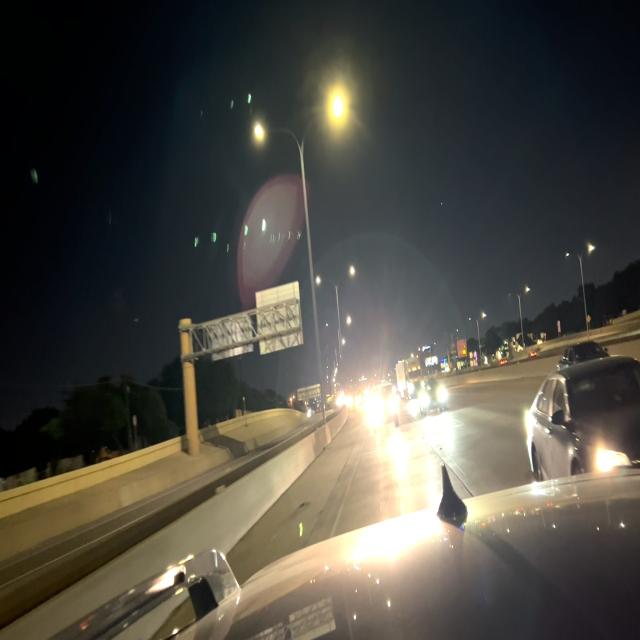back-of-sign: (207, 279, 304, 363), (296, 385, 322, 405)
